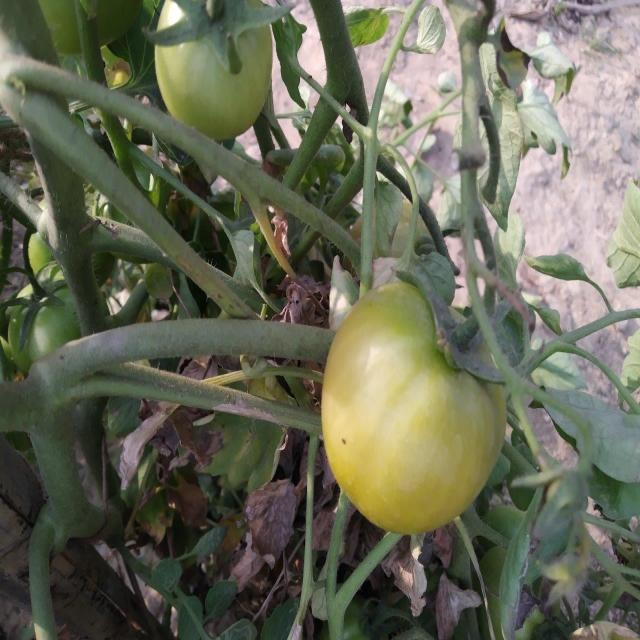Unripe: (321, 280, 505, 535), (152, 0, 276, 140)
